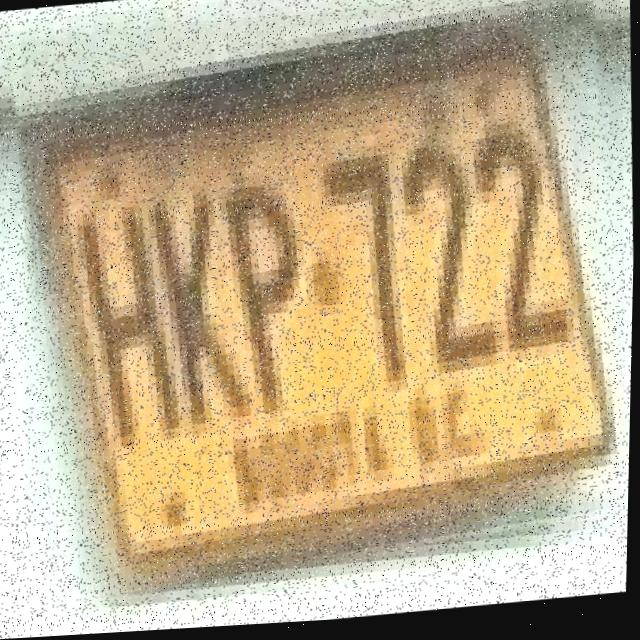LicensePlate: (11, 0, 640, 600)
